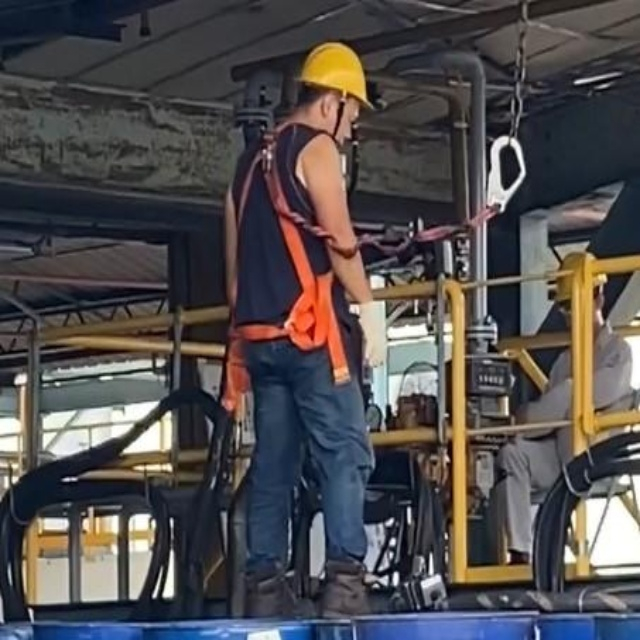Arnes_seguridad: (226, 126, 347, 393)
